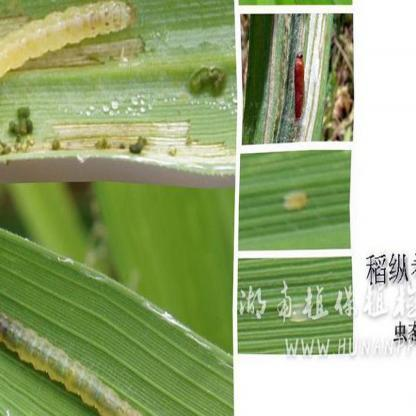leaf-folder: (1, 300, 134, 416), (0, 0, 150, 87), (287, 48, 311, 127), (278, 180, 317, 218)
